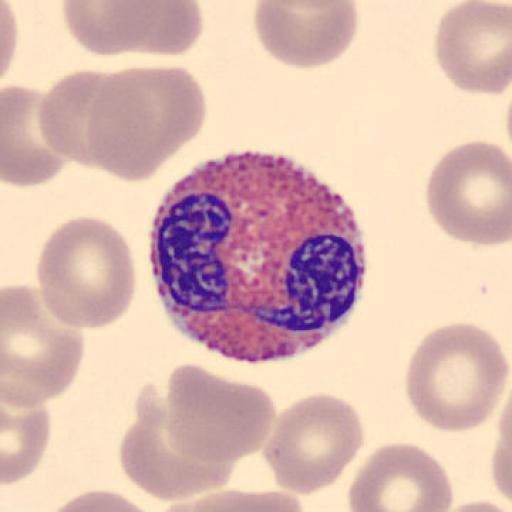RBC: (40, 64, 207, 181), (119, 382, 234, 502), (404, 320, 510, 434), (165, 361, 277, 464), (36, 216, 136, 331), (261, 390, 365, 496), (2, 284, 86, 408), (425, 139, 512, 247), (37, 68, 121, 170), (60, 0, 204, 56), (347, 441, 454, 511), (434, 0, 512, 96), (253, 0, 359, 69), (1, 82, 67, 188), (107, 0, 203, 56), (61, 1, 154, 57), (2, 398, 52, 485), (157, 488, 308, 512), (490, 368, 512, 511), (39, 488, 162, 512), (197, 486, 308, 512), (490, 423, 512, 505), (0, 0, 20, 80), (438, 498, 512, 512)
WBC: (145, 155, 370, 364)
